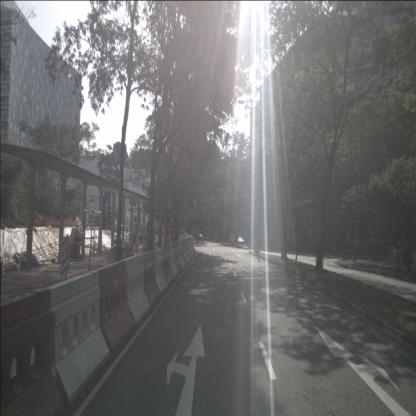movable_object-barrier: (0, 284, 68, 416), (48, 269, 110, 404), (93, 259, 135, 352), (124, 252, 152, 327), (141, 250, 161, 303), (152, 245, 170, 297), (160, 242, 174, 288), (168, 243, 180, 281), (385, 246, 406, 266), (180, 238, 190, 270), (173, 240, 182, 274), (180, 242, 186, 269), (190, 236, 194, 258)
vehicle-car: (168, 228, 194, 244), (237, 236, 244, 245), (198, 234, 204, 241)
vehicle-truck: (188, 219, 200, 241)
